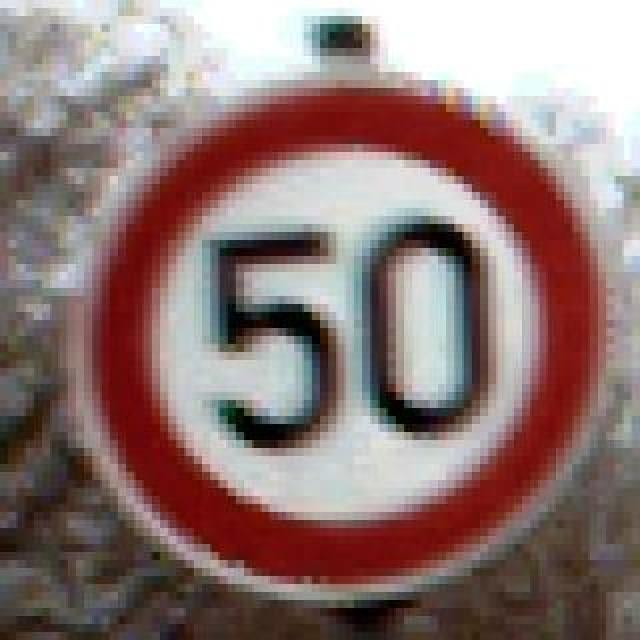50 kph: (76, 64, 598, 584)
